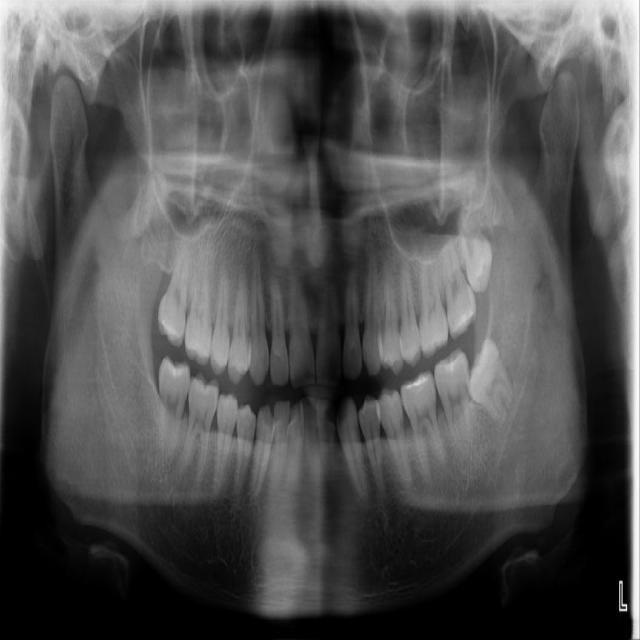52: (398, 370, 440, 419)
73: (620, 600, 628, 616)
BioHorizons Implant: (438, 227, 480, 342)
BioLife Implant: (453, 205, 500, 297)
Biomet 3i Implant: (450, 334, 525, 431)
Blue Sky Bio Implant: (432, 345, 474, 452)
Caries: (155, 243, 192, 348)
Implant: (150, 356, 190, 459)
